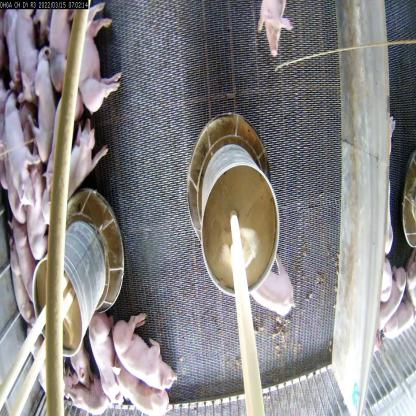Pig: (67, 10, 125, 120), (51, 106, 112, 210), (235, 232, 298, 327), (112, 310, 181, 394), (97, 355, 178, 415), (3, 212, 46, 324), (0, 75, 37, 194), (87, 311, 125, 415), (32, 37, 62, 168), (0, 233, 31, 354), (20, 174, 59, 264), (255, 0, 293, 65)
